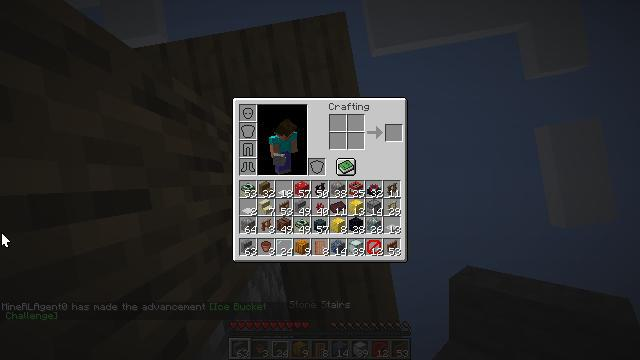cursor: (232, 1, 248, 11)
